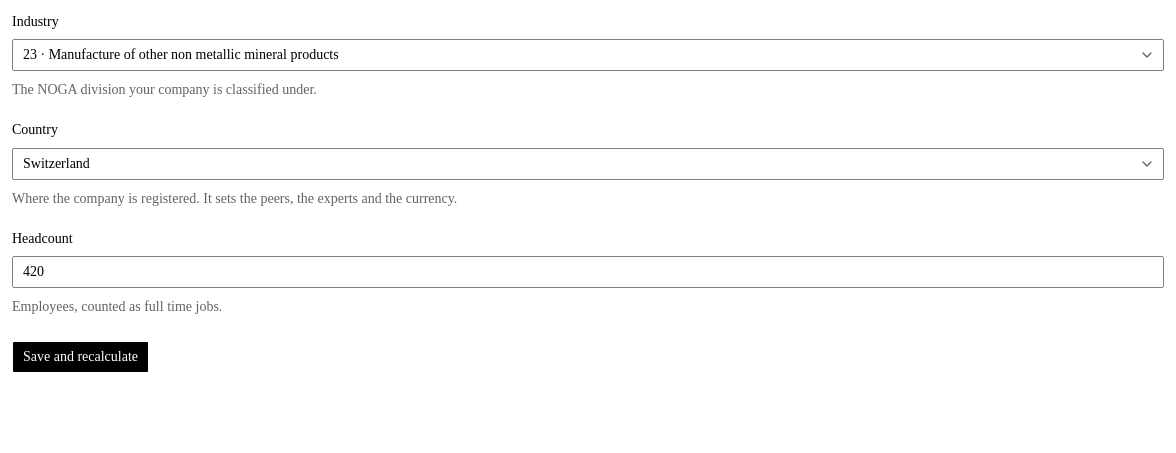
Test: FactsForm (AC-11) › announces an action error inline and does not refresh
This screenshot has width=1176, height=453.
Replace the text in the number field labelled "Headcount" with "99". click: (588, 272)
box: left=12, top=256, right=1164, bottom=288
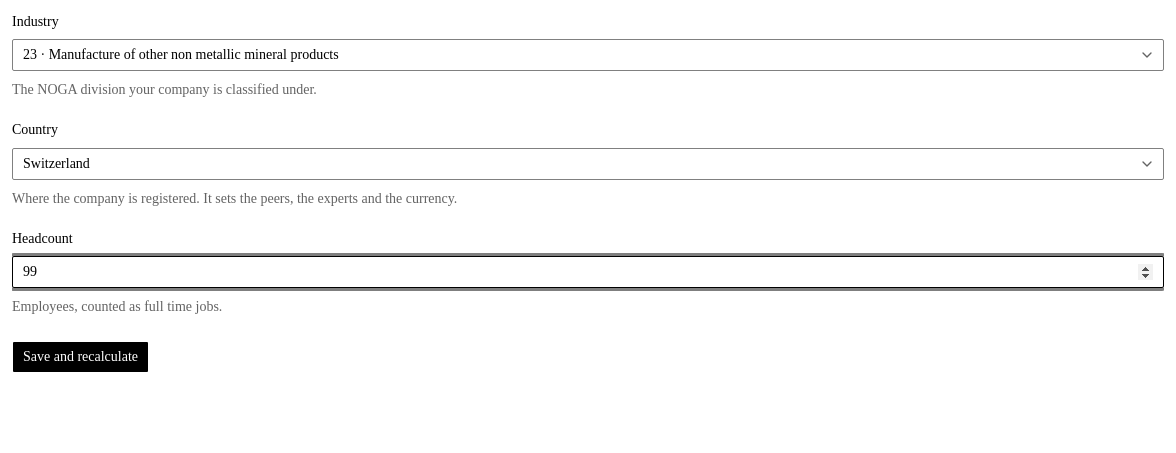
Click the button "Save and recalculate". click: click(80, 357)
box: left=12, top=341, right=149, bottom=373
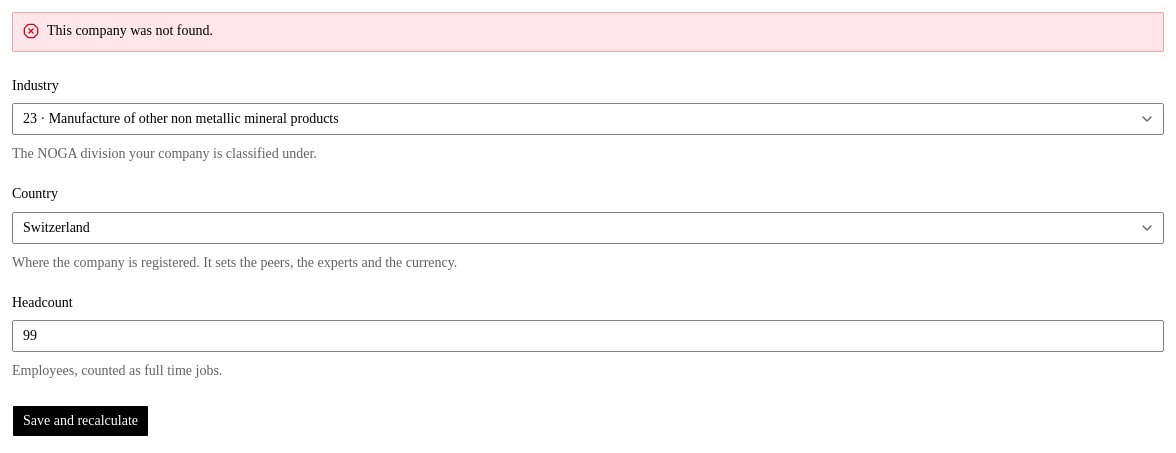
Result: the message reads "This company was not found." at left=47, top=23, right=213, bottom=38
